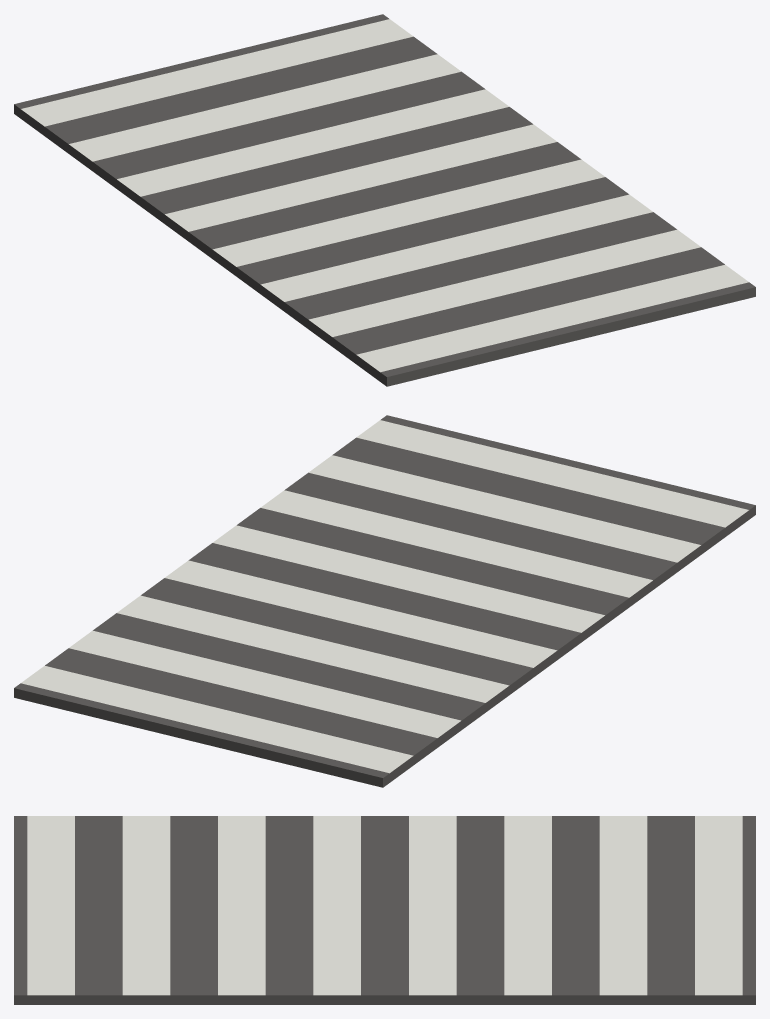
File: SM_Ground_RoadCrosswalk_700x400_01.fbx
The picture shows the model from 3 angles, top to bottom: view 1: azimuth 30°, elevation 25°; view 2: azimuth 150°, elevation 25°; view 3: azimuth 270°, elevation 25°; orthographic projection.
Visible parts, largest first — view 1: SM_Ground_RoadCrosswalk_700x400_01; view 2: SM_Ground_RoadCrosswalk_700x400_01; view 3: SM_Ground_RoadCrosswalk_700x400_01.
Boxes of the visible parts, left/top/right/bottom form: SM_Ground_RoadCrosswalk_700x400_01: left=14, top=14, right=755, bottom=386; SM_Ground_RoadCrosswalk_700x400_01: left=14, top=415, right=755, bottom=787; SM_Ground_RoadCrosswalk_700x400_01: left=14, top=816, right=755, bottom=1004.
Size of the model in its own units: 4 by 0.1 by 7.
1 material, 1 textured.
